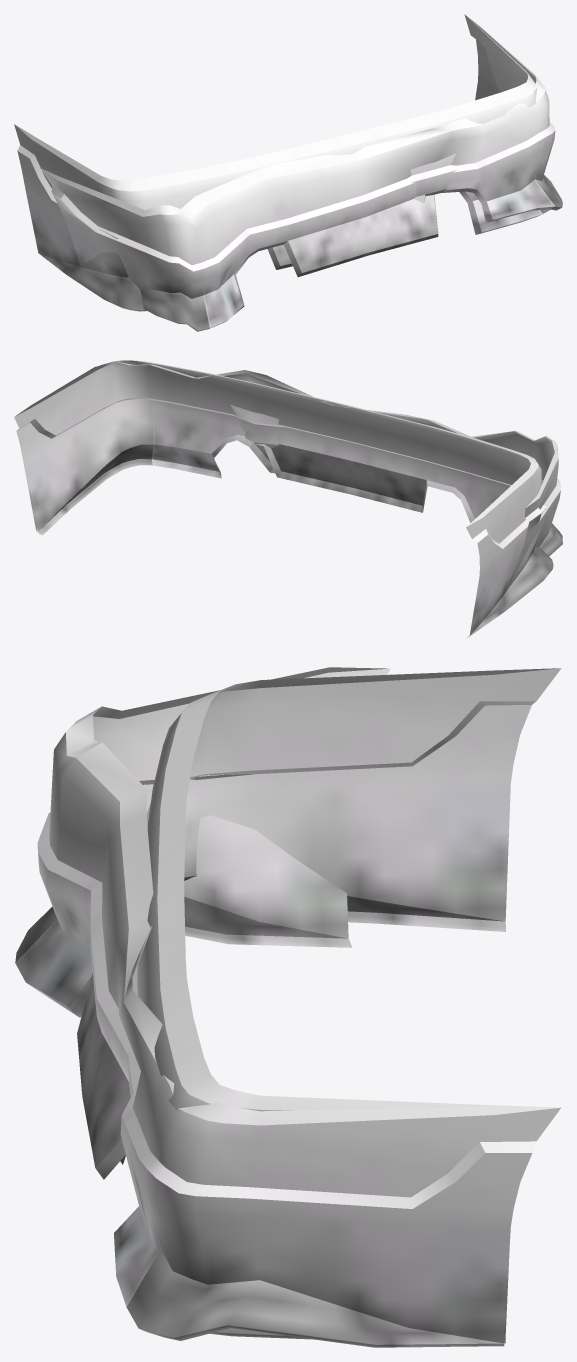
File: rbmp_a_l.glb
The picture shows the model from 3 angles, top to bottom: view 1: azimuth 30°, elevation 25°; view 2: azimuth 150°, elevation 25°; view 3: azimuth 270°, elevation 25°; orthographic projection. The views are drawn at different scales.
Parts seen in each view (by area): view 1: rbmp_a_l_dam, rbmp_a_l; view 2: rbmp_a_l, rbmp_a_l_dam; view 3: rbmp_a_l_dam, rbmp_a_l.
Part boxes in pixels (box(x1,y1,x2,y2)): rbmp_a_l_dam: box(40, 15, 562, 331); rbmp_a_l: box(14, 14, 550, 311); rbmp_a_l: box(14, 360, 553, 637); rbmp_a_l_dam: box(15, 362, 562, 588); rbmp_a_l_dam: box(15, 667, 560, 1347); rbmp_a_l: box(120, 668, 561, 1343).
Size of the model in its own units: 2.22 by 0.5748 by 1.11.
Materials: 1 (1 with a texture image).
